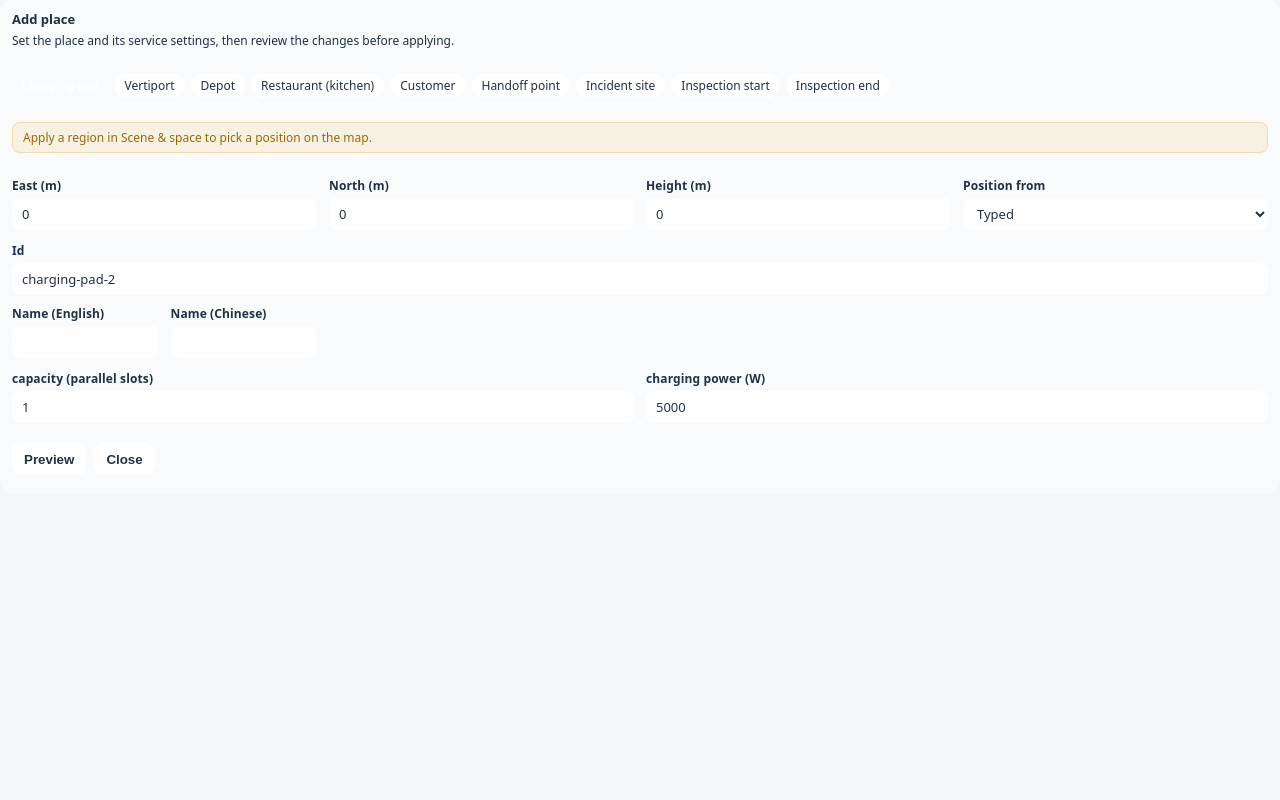
Test: defaults to exactly one selected role and a unique editable id without initial errors (D7/T4-R2-013)
Check: the field labelled "Id" holds "charging-pad-2", box [12, 263, 1268, 295]
Click the button "Restaurant (kitchen)" at (318, 86), box [251, 73, 384, 98]
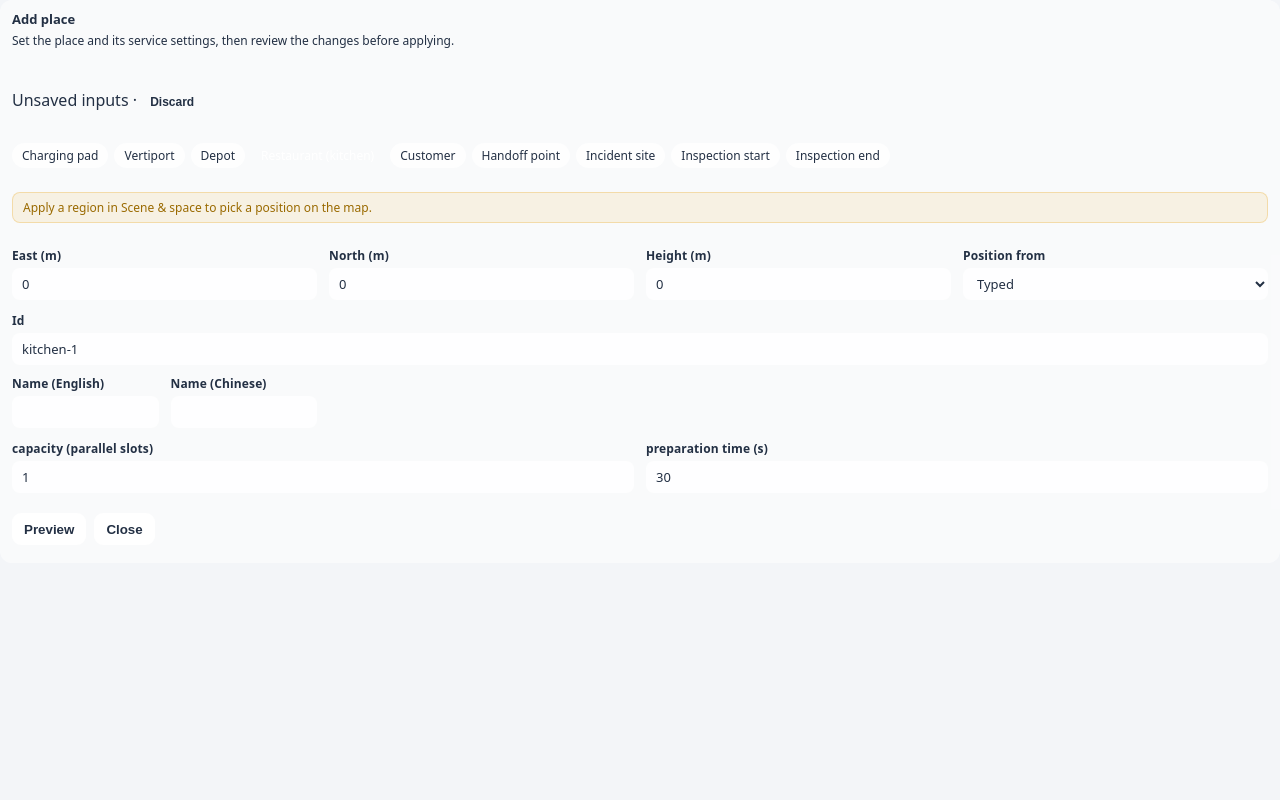
Check: the field labelled "Id" holds "kitchen-1"
Replace the text in the field labelled "Id" with "my-place" at (640, 349), box [12, 333, 1268, 365]
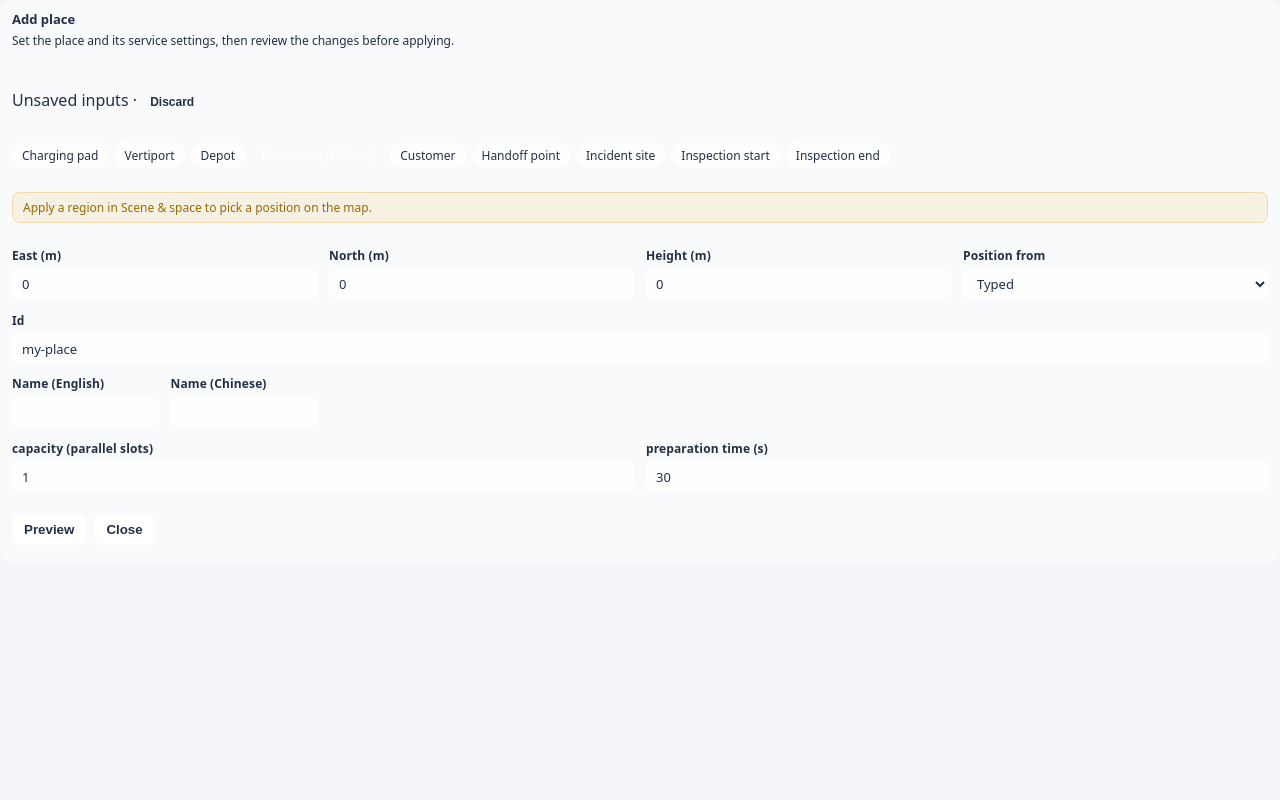
Click the button "Customer" at (428, 156), box [390, 143, 466, 168]
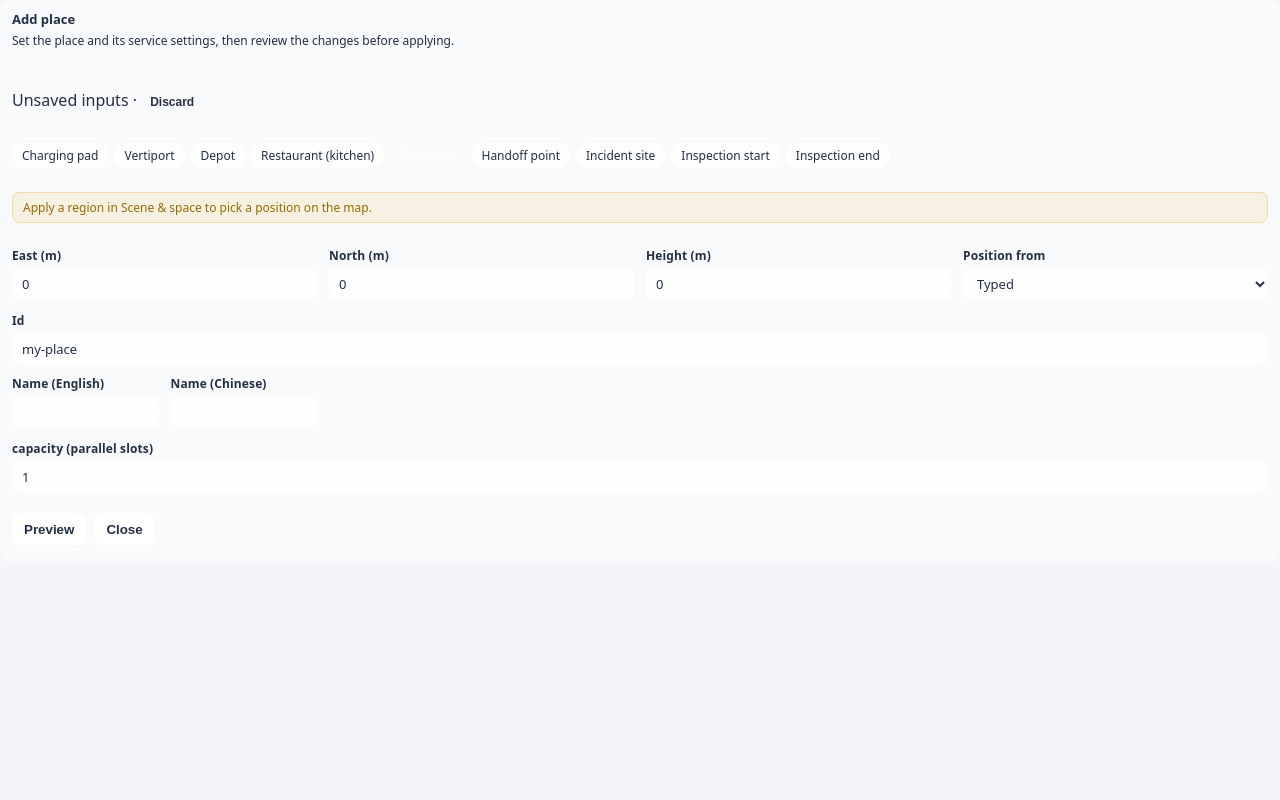
Clear the field labelled "Id" at (640, 349), box [12, 333, 1268, 365]
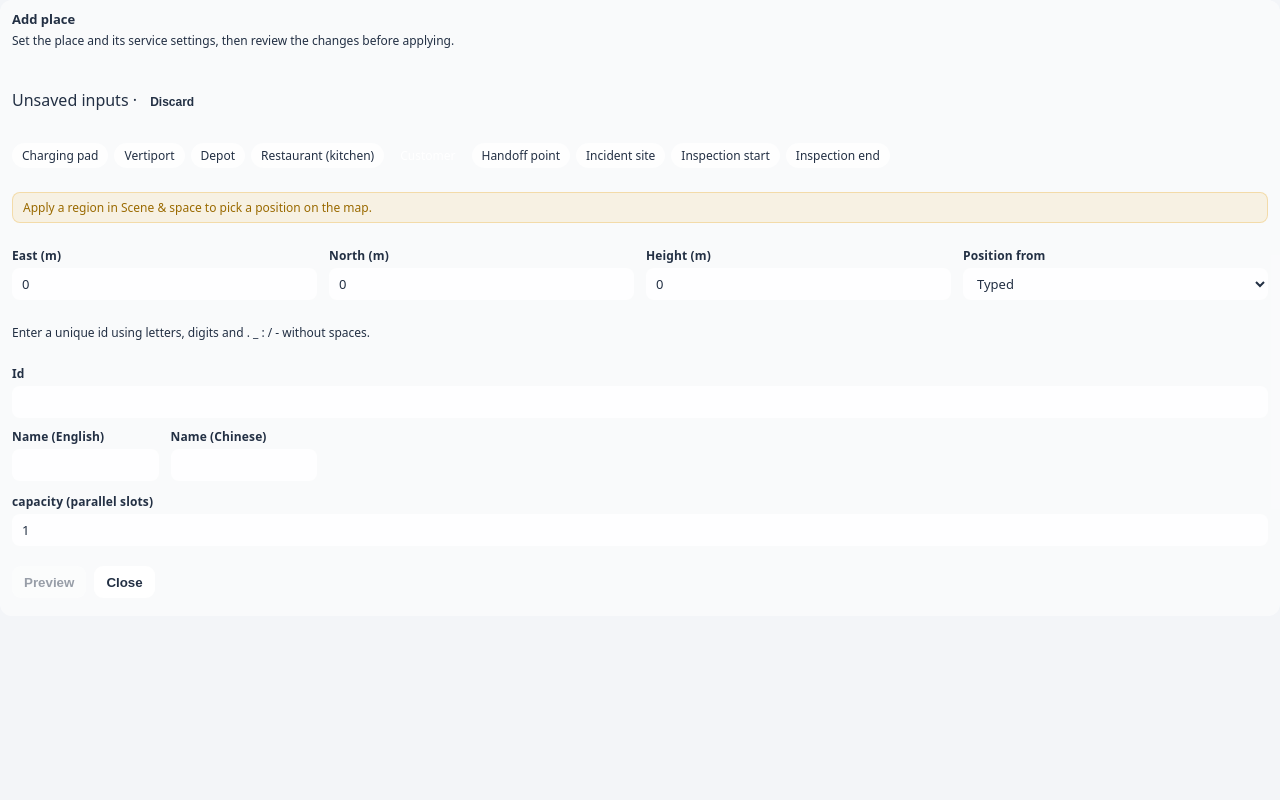
Check: the message shows "Enter a unique id", box [12, 324, 370, 341]
Check: the button "Preview" is disabled, box [12, 566, 86, 598]
